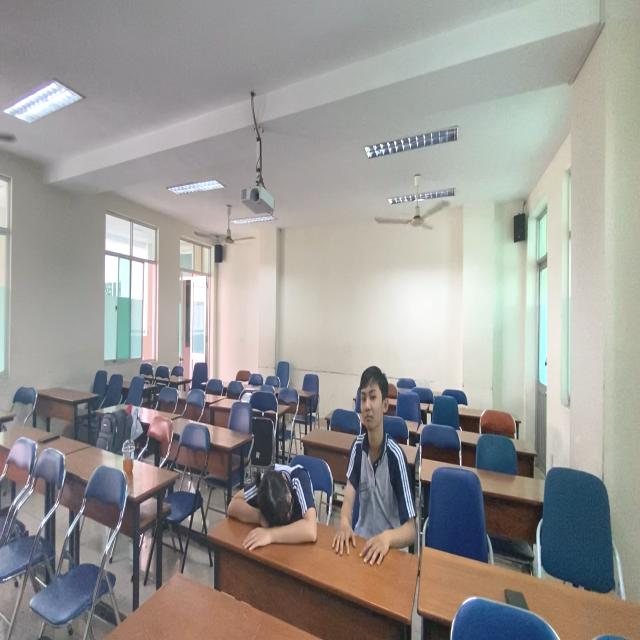sleep: (225, 458, 324, 550)
